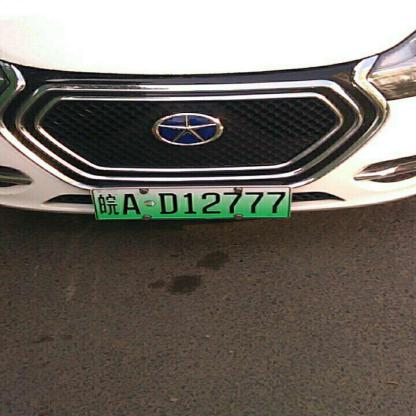lp: (92, 186, 289, 218)
